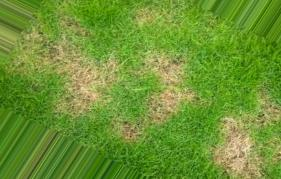patch: (151, 68, 184, 103), (72, 64, 102, 99), (223, 133, 251, 163), (133, 13, 152, 25), (116, 119, 132, 131)
